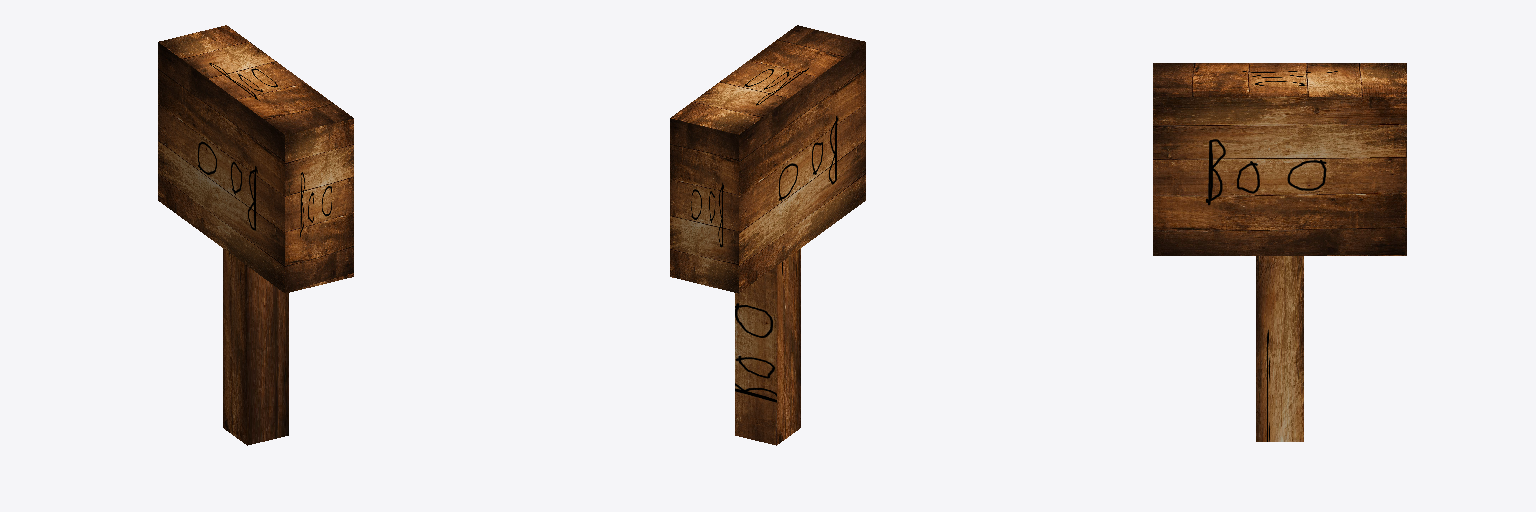
3 renders of one model, left to right at view 1: azimuth 30°, elevation 25°; view 2: azimuth 150°, elevation 25°; view 3: azimuth 270°, elevation 25°, orthographic.
Bounding box in the file's own units: 0.25 × 1.22 × 0.8.
Materials: 2 (1 with a texture image).